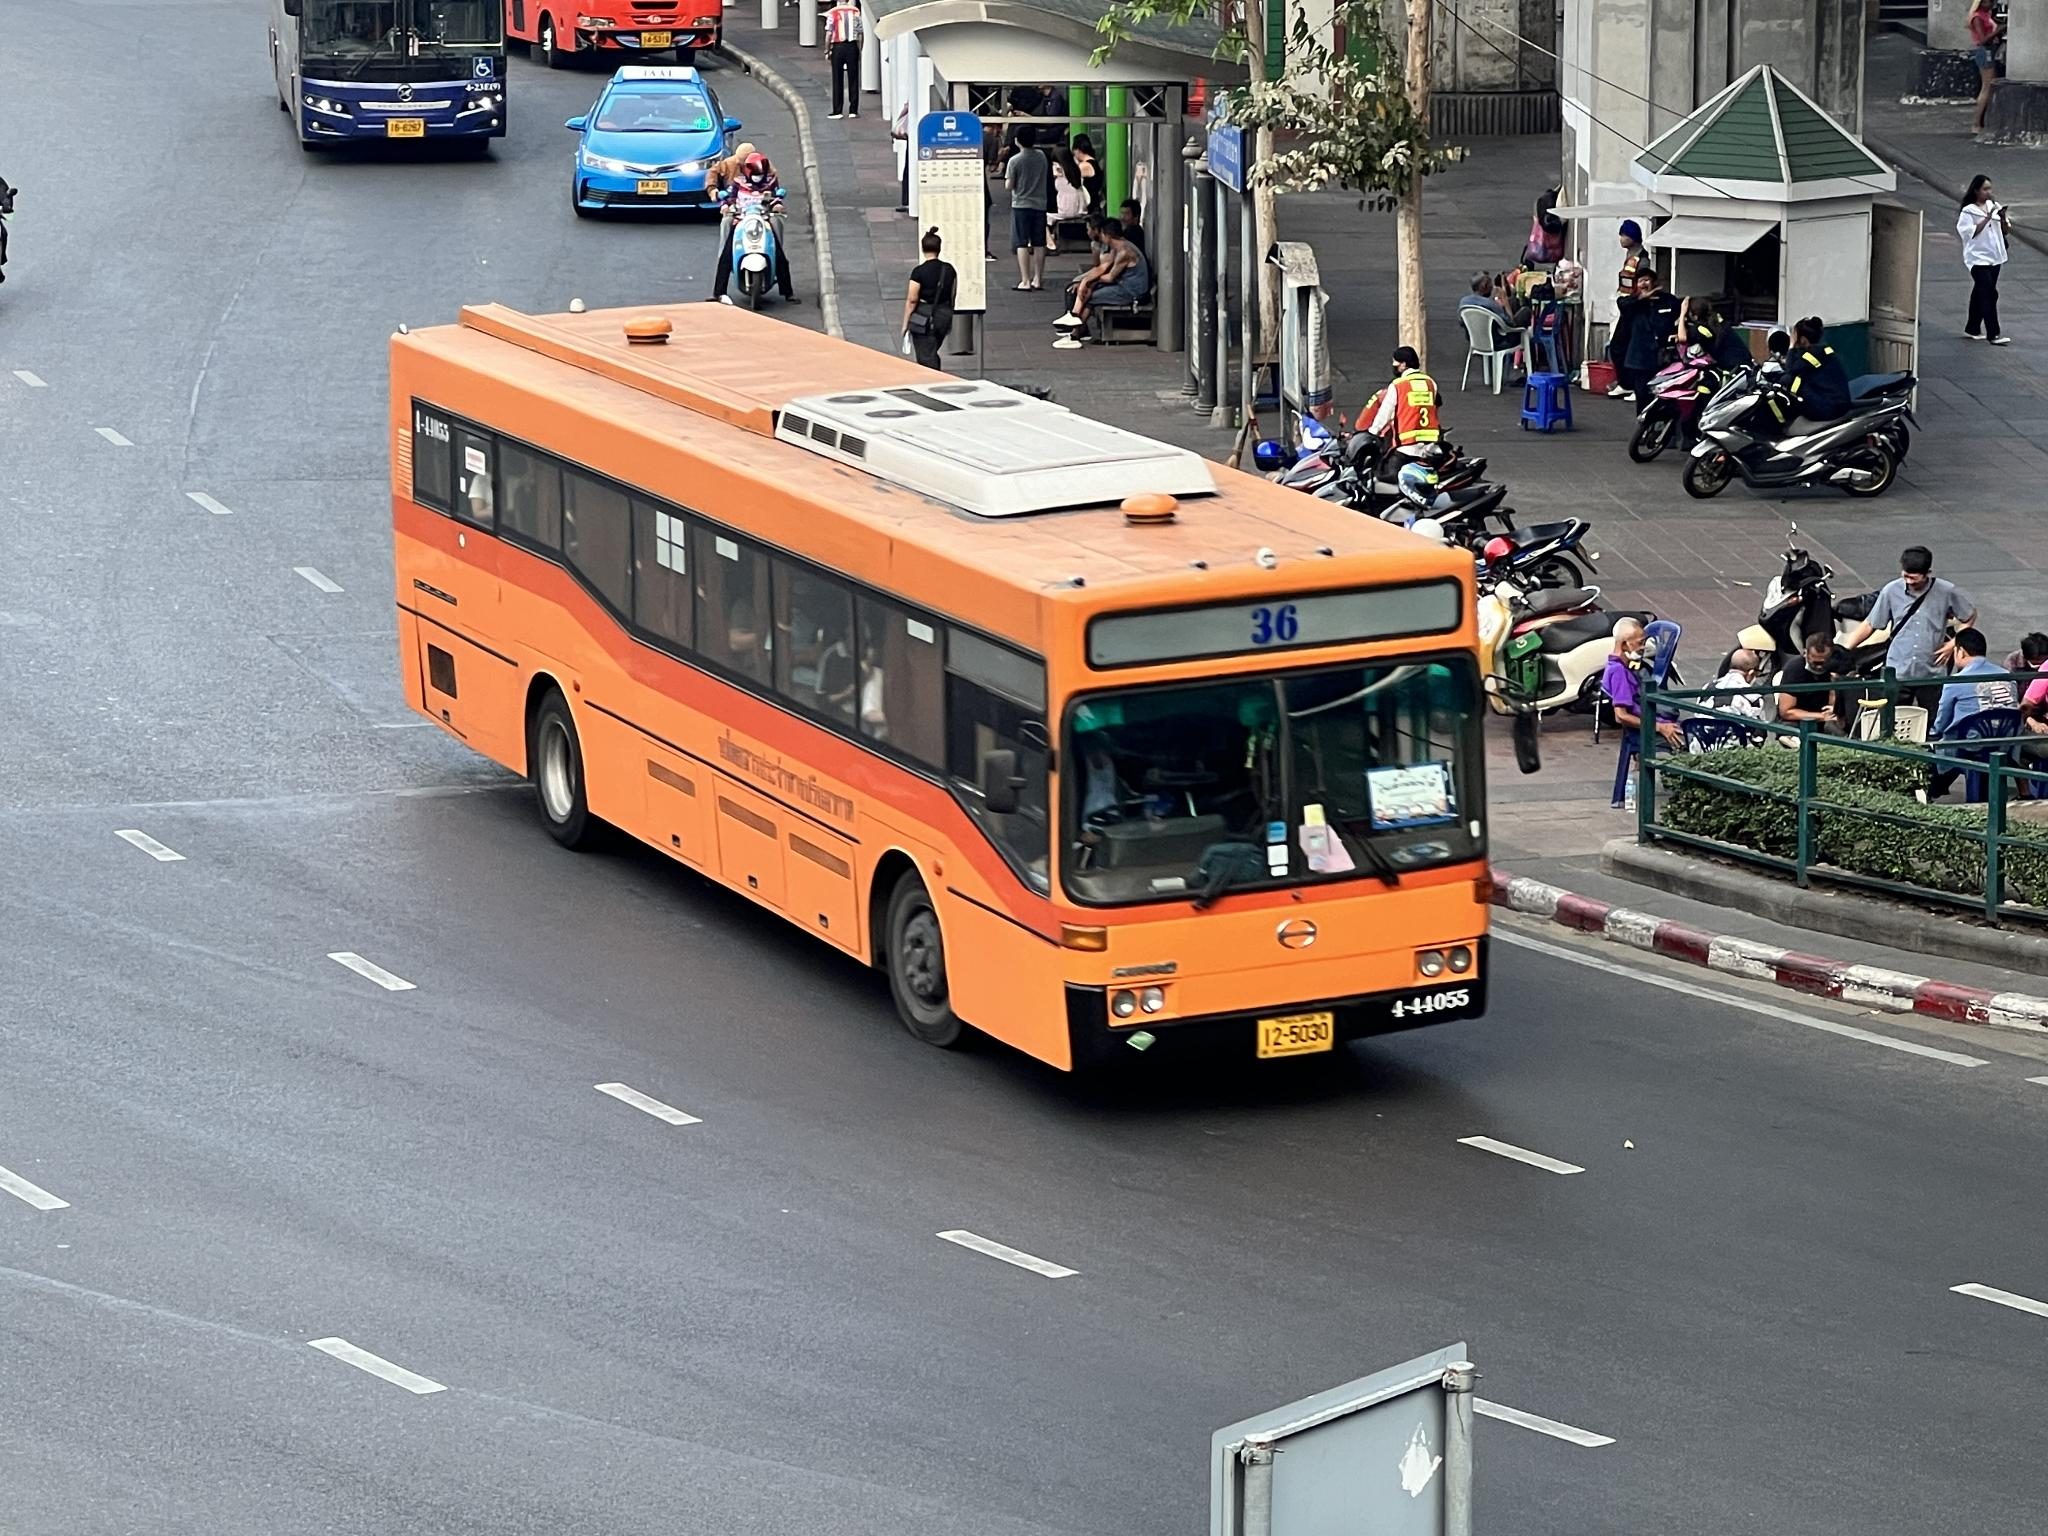BMTA-bus: (382, 302, 1496, 1081)
Bus Line Number: (1245, 597, 1313, 650)
Bus Side Number: (1390, 978, 1476, 1020)
Destination Sign: (1364, 762, 1458, 831)
